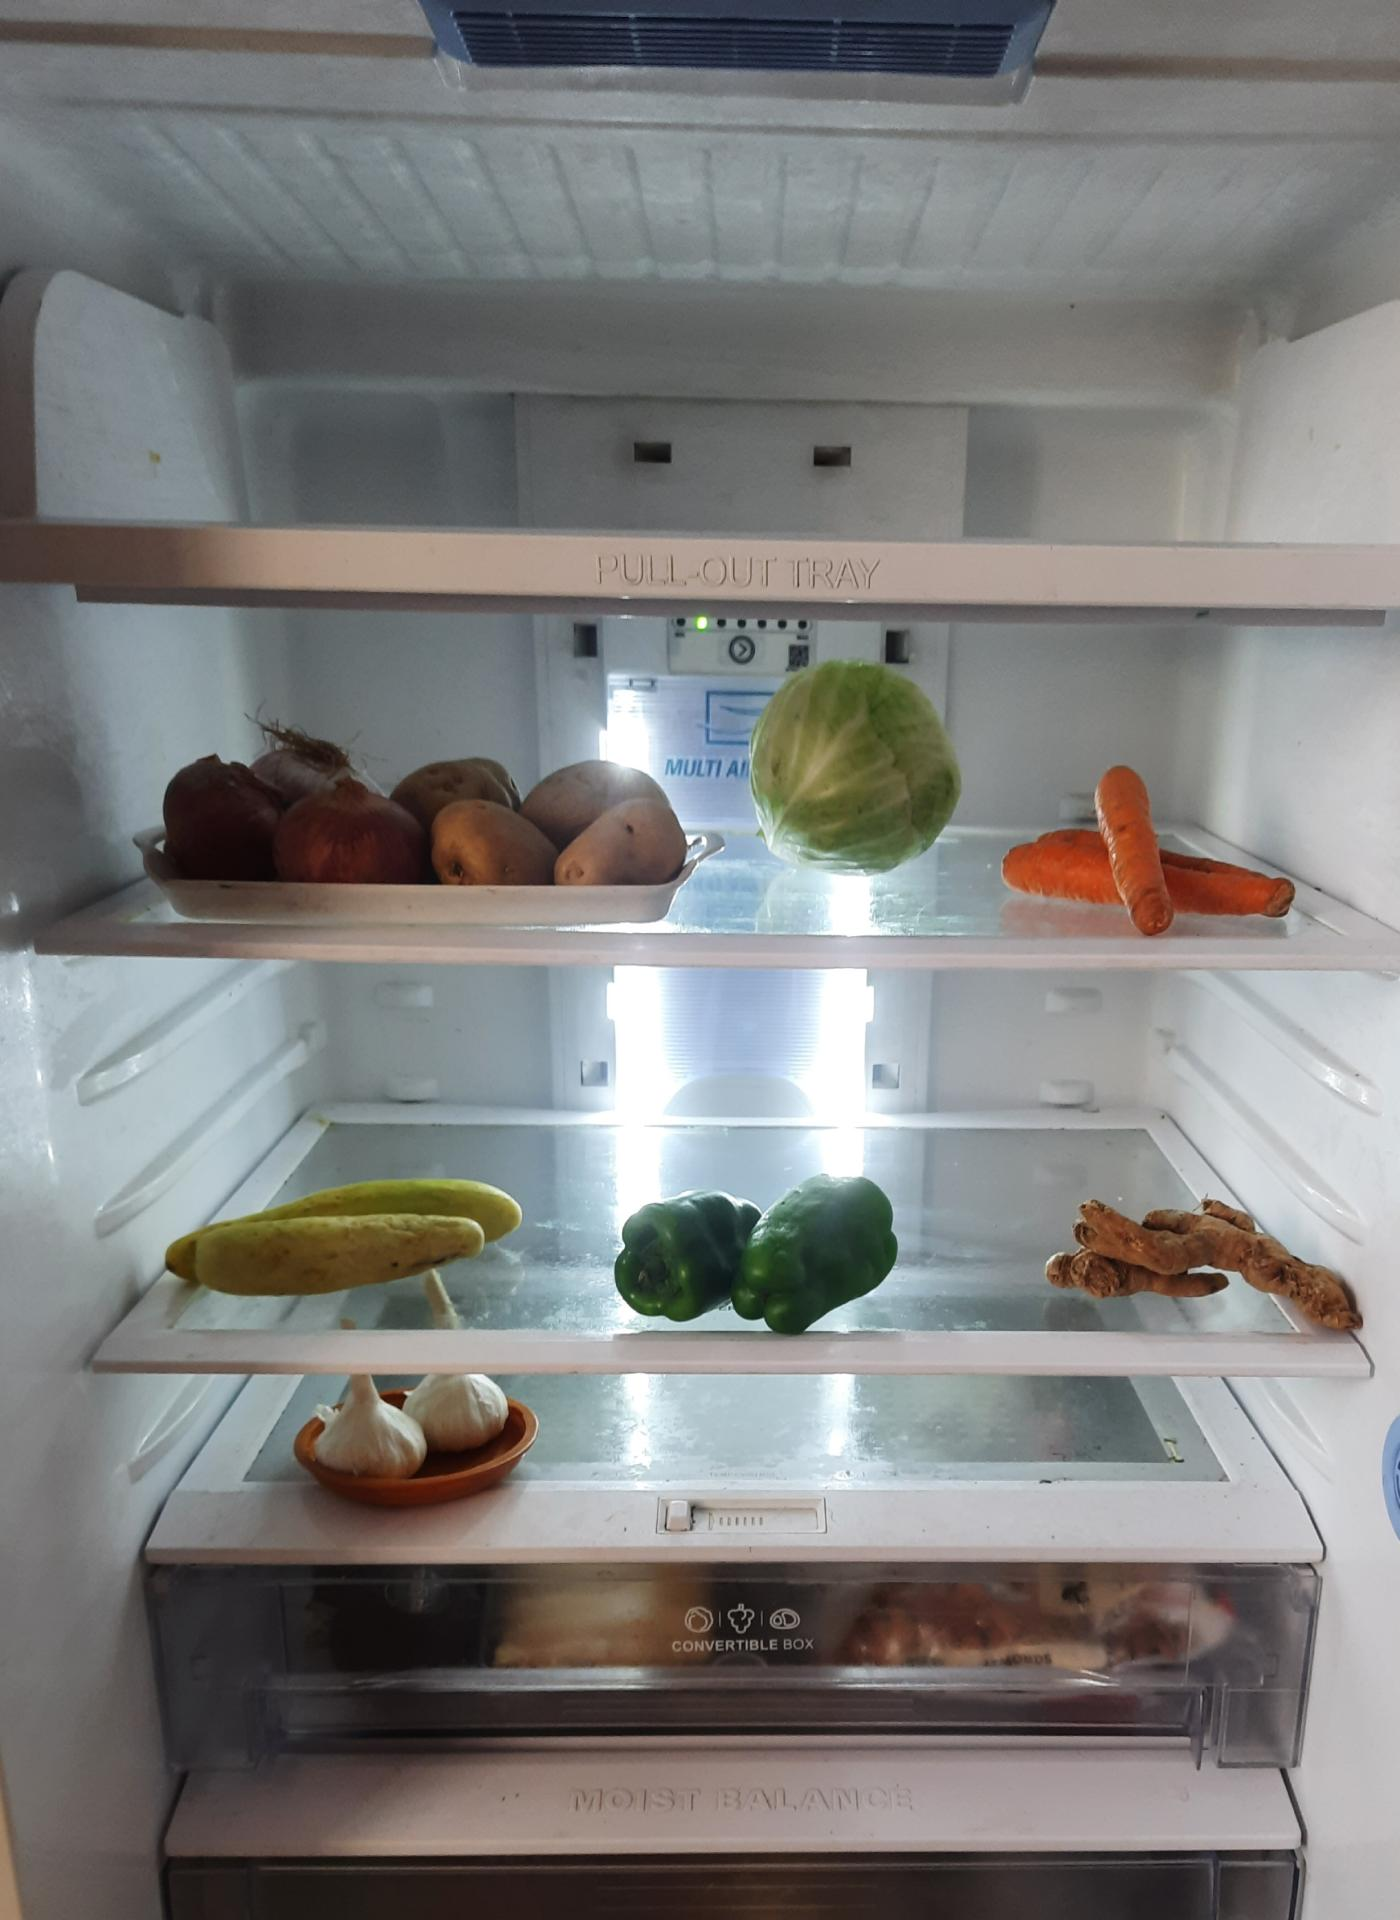cabbage: (751, 651, 968, 869)
capsicum: (608, 1167, 904, 1327)
carrots: (1003, 751, 1311, 932), (1038, 1182, 1360, 1333)
cucumber: (160, 1169, 526, 1310)
garlic: (276, 1373, 565, 1473)
onion: (154, 726, 425, 888)
potato: (395, 756, 692, 890)
